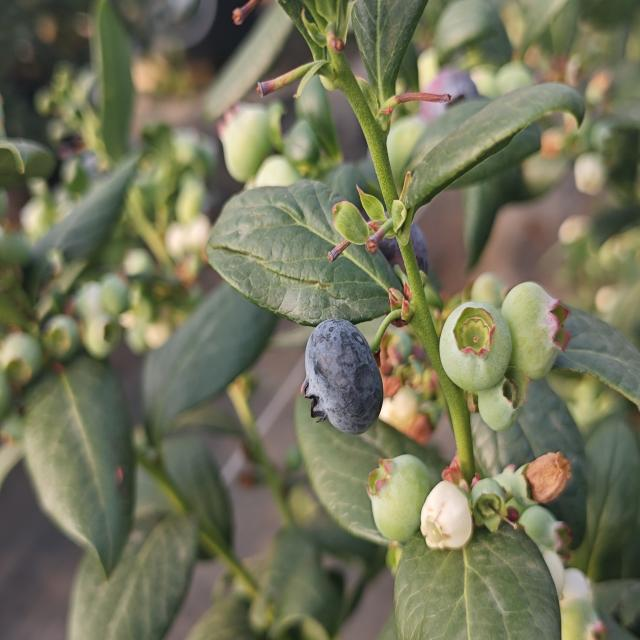ripe: (297, 311, 384, 443), (348, 198, 434, 316), (416, 65, 489, 135)
